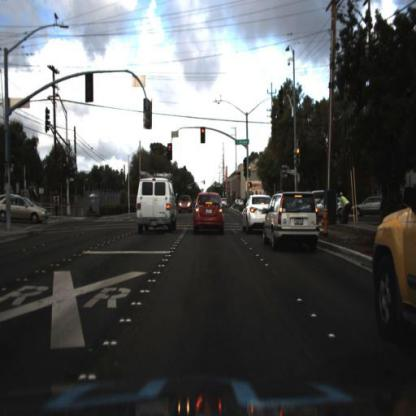car: (265, 189, 321, 254), (133, 175, 180, 235), (1, 185, 52, 229), (190, 187, 226, 238), (1, 192, 51, 228), (241, 193, 267, 235), (243, 195, 271, 231), (353, 191, 384, 221), (178, 192, 194, 218), (179, 194, 191, 211)
pedestrian: (338, 188, 351, 226), (341, 192, 353, 226)
trafficLight: (168, 144, 174, 160)
trafficLight-Red: (294, 146, 304, 170), (295, 143, 304, 160), (247, 164, 255, 181), (201, 126, 206, 147)
trafficLight-RedLeft: (59, 158, 69, 182)
